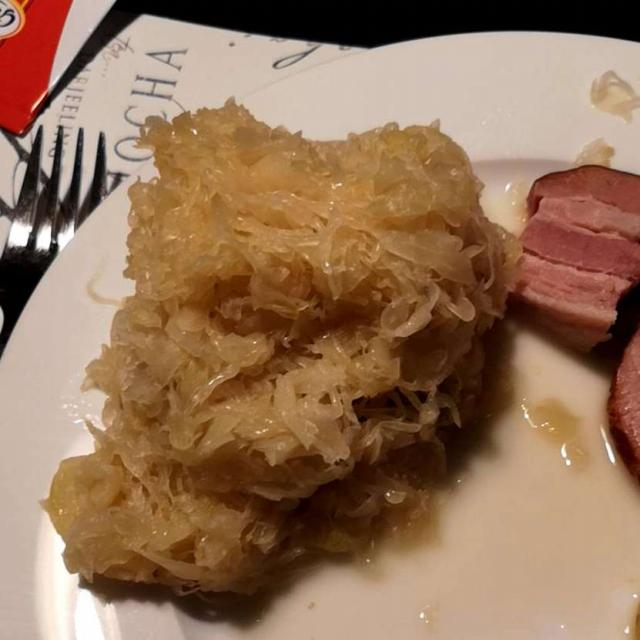sauerkraut: (65, 114, 512, 600)
